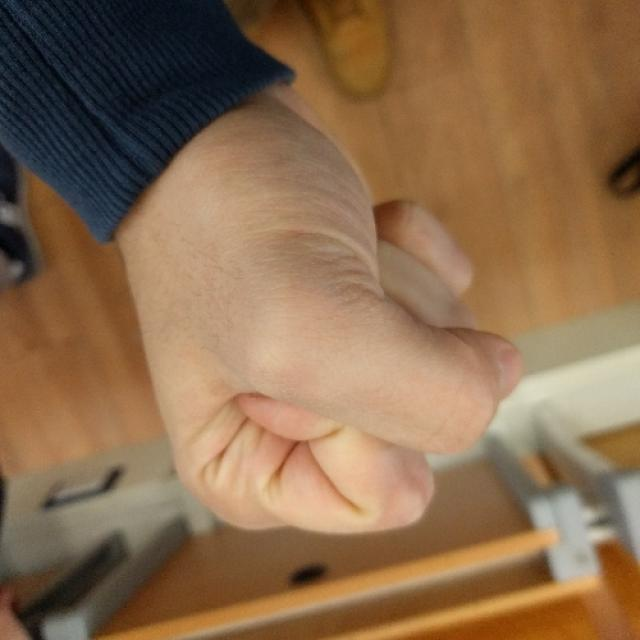rock: (135, 147, 522, 536)
